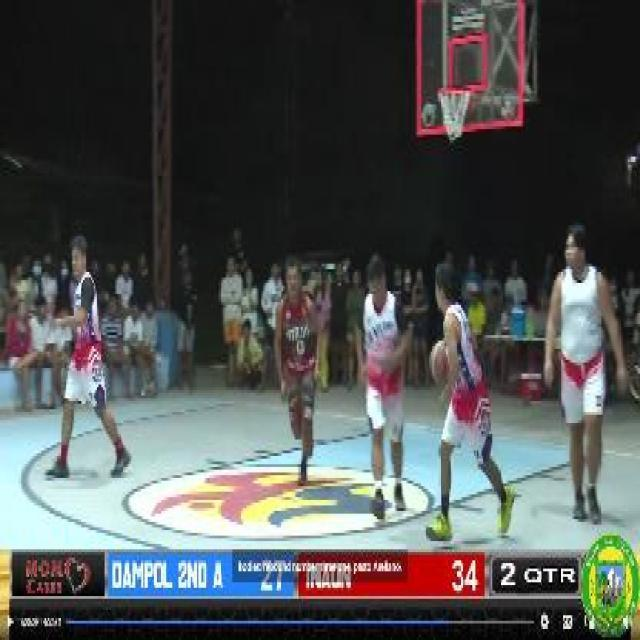ball: (428, 340, 456, 390)
hoop: (434, 82, 470, 95)
